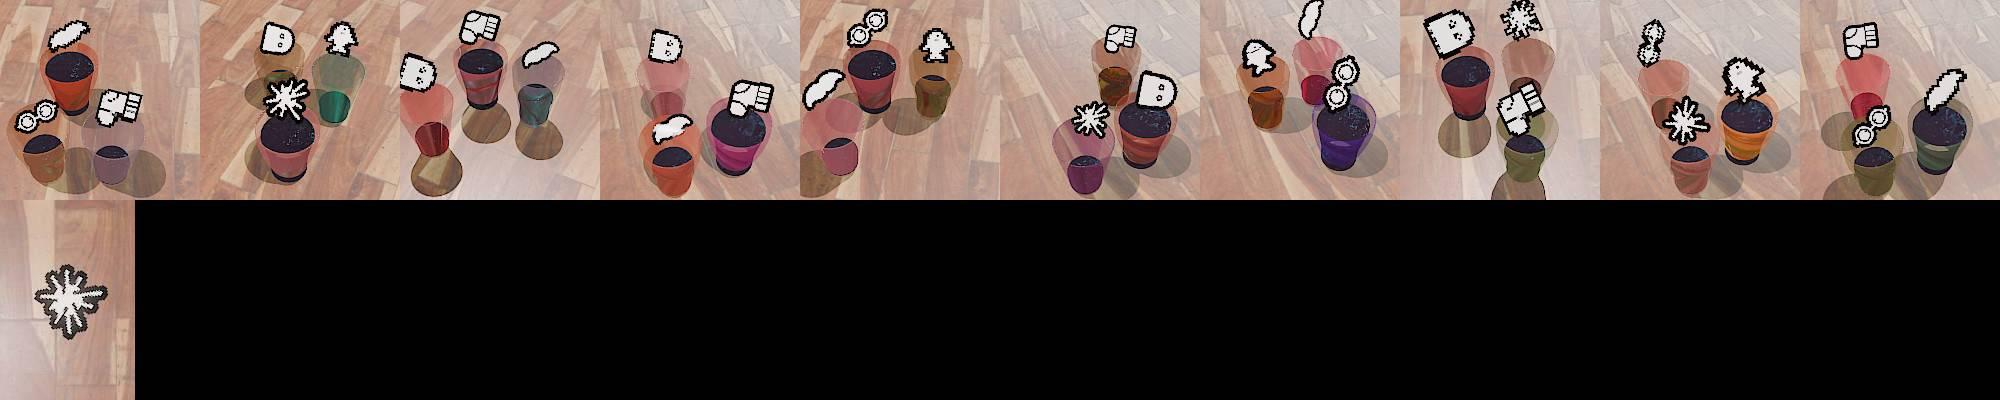icon: (34, 264, 108, 339), (1497, 79, 1548, 137), (1423, 9, 1475, 62), (1661, 94, 1712, 147), (1329, 53, 1372, 115), (263, 77, 313, 125), (1720, 56, 1766, 103), (1922, 67, 1967, 114), (727, 77, 775, 119), (1134, 69, 1178, 112), (802, 68, 844, 112), (844, 9, 890, 49), (95, 88, 144, 125), (1500, 0, 1543, 41), (1852, 105, 1892, 148), (398, 52, 438, 93), (15, 99, 61, 134), (459, 9, 502, 46), (1071, 99, 1111, 138), (47, 19, 93, 52), (917, 27, 956, 64), (1242, 38, 1278, 78), (1637, 18, 1666, 67), (651, 113, 695, 145), (1843, 22, 1880, 60), (323, 20, 359, 58), (259, 21, 296, 56), (647, 29, 683, 64), (520, 40, 560, 70), (1104, 22, 1139, 54), (1297, 0, 1324, 39)
